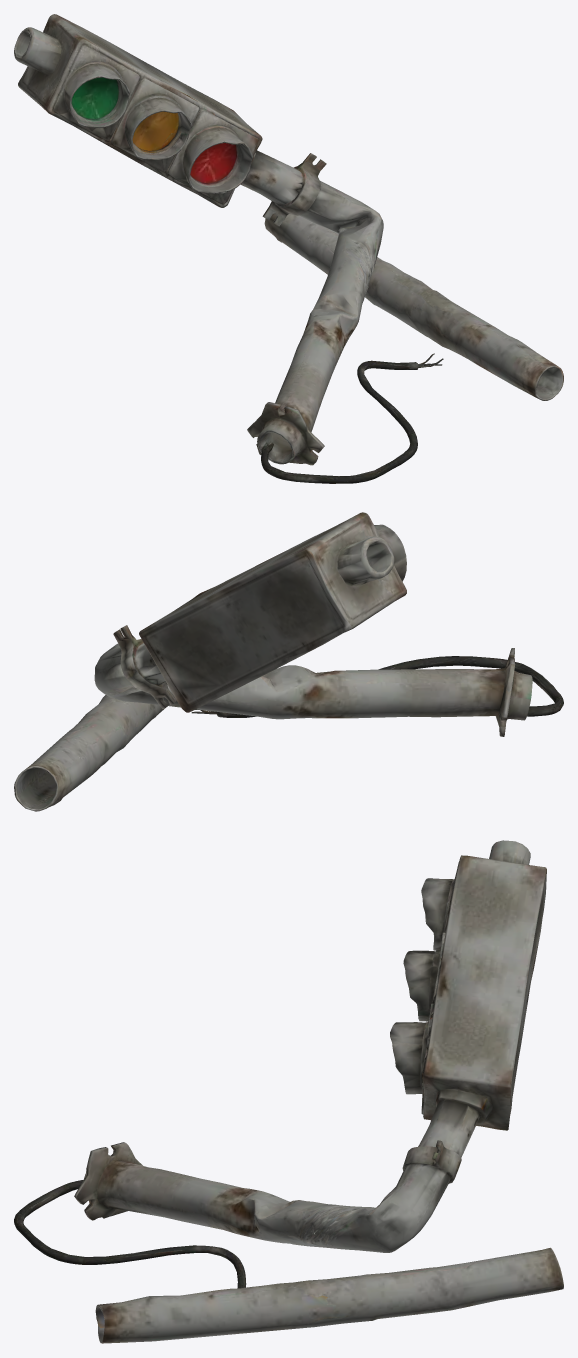
File: trafficfall.glb
The picture shows the model from 3 angles, top to bottom: view 1: azimuth 30°, elevation 25°; view 2: azimuth 150°, elevation 25°; view 3: azimuth 270°, elevation 25°; orthographic projection. The views are drawn at different scales.
Bounding box in the file's own units: 1.52 × 1.28 × 1.9.
1 material, 1 textured.
